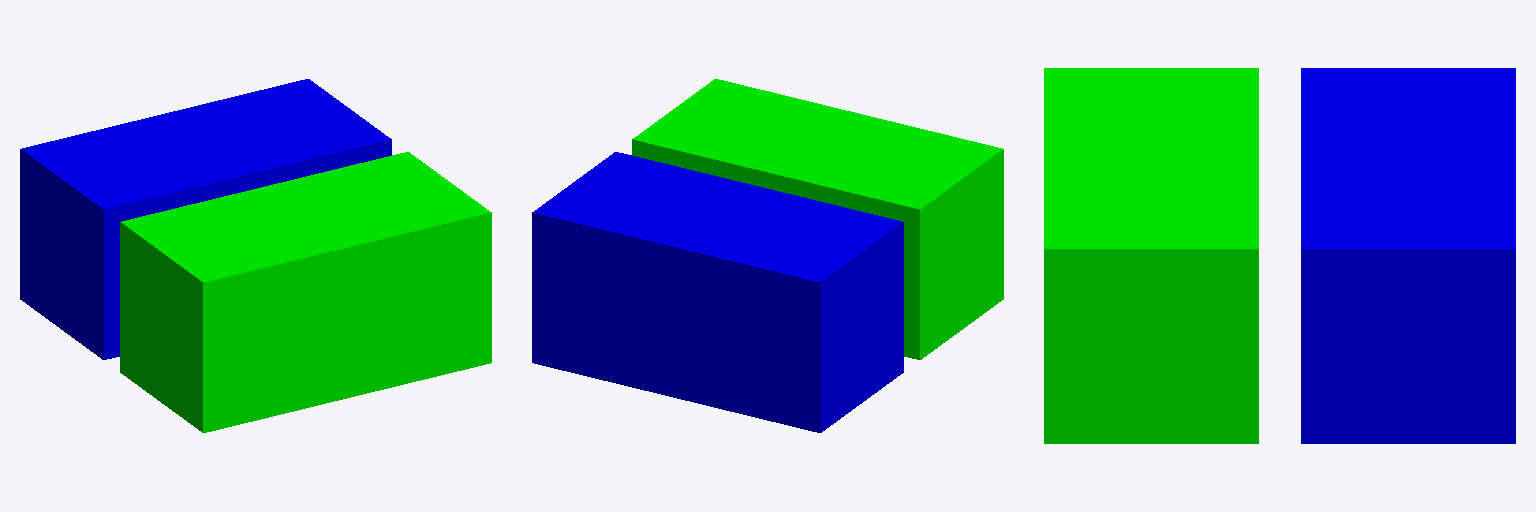
URDF robot description (elbow):
<?xml version="1.0"?>
<robot name="elbow" xmlns:drake="https://drake.mit.edu/">
    <link name="elbow_1">
        <inertial>
            <origin xyz="0 0 0" rpy="0 0 0"/>
            <mass value="0.37"/>
            <inertia
                ixx="0.0006167"
                ixy="0"
                ixz="0"
                iyy="0.0006167"
                iyz="0"
                izz="0.0006167"/>
        </inertial>
        <visual>
            <origin xyz="0 0 0" rpy="0 0 0" />
            <geometry>
                <box size="0.1 0.05 0.05"/>
            </geometry>
            <material name="green">
                <color rgba="0 1 0 1.0" />
            </material>
        </visual>
        <collision>
            <geometry>
                <box size="0.1 0.05 0.05"/>
            </geometry>
            <origin xyz="0 0 0" rpy="0 0 0" />
            <drake:proximity_properties>
                <drake:mu_static value="0.3" />
            </drake:proximity_properties>
        </collision>
    </link>

    <link name="elbow_2">
        <inertial>
            <origin xyz="0.035 0 0" rpy="0 0 0"/>
            <mass value="0.37"/>
            <inertia
                ixx="0.0006167"
                ixy="0"
                ixz="0"
                iyy="0.0006167"
                iyz="0"
                izz="0.0006167"/>
        </inertial>
        <visual>
            <origin xyz="0.035 0 0" rpy="0 0 0" />
            <geometry>
                <box size="0.1 0.05 0.05"/>
            </geometry>
            <material name="blue">
                <color rgba="0 0 1 1.0" />
            </material>
        </visual>
        <collision>
            <geometry>
                <box size="0.1 0.05 0.05"/>
            </geometry>
            <drake:proximity_properties>
                <drake:mu_static value="0.3" />
            </drake:proximity_properties>
            <origin xyz="0.035 0 0" rpy="0 0 0" />
        </collision>
    </link>

    <joint name="hinge_1_to_2" type="continuous">
        <parent link="elbow_1"/>
        <child link="elbow_2"/>
        <origin xyz="-0.035 0.06 0" rpy="0 0 0" />
        <axis xyz="0 1 0" />
    </joint>

    <drake:collision_filter_group name="elbow_group">
        <drake:member link="elbow_1"/>
        <drake:member link="elbow_2"/>
        <drake:ignored_collision_filter_group name="elbow_group"/>
    </drake:collision_filter_group>

</robot>

--- What the picture shows (computed from the rendered views, not written in the file) ---
Views: 3 orthographic renders of the robot side by side, from view 1: azimuth 30°, elevation 25°; view 2: azimuth 150°, elevation 25°; view 3: azimuth 270°, elevation 25°.
Model elbow with 2 links and 1 joints (1 continuous), rooted at elbow_1, posed all joints at 0.
Links seen in each view (by area): view 1: elbow_1, elbow_2; view 2: elbow_2, elbow_1; view 3: elbow_1, elbow_2.
Boxes of the visible links, x1,y1,x2,y2 form: elbow_1: (120, 152, 491, 432); elbow_2: (20, 79, 391, 359); elbow_2: (532, 152, 903, 432); elbow_1: (632, 79, 1003, 359); elbow_1: (1044, 68, 1258, 443); elbow_2: (1301, 68, 1515, 443).
Bounding box of the posed robot: 0.1 × 0.11 × 0.05 m (x, y, z).
Geometry: primitives only (box / cylinder / sphere), no mesh files.